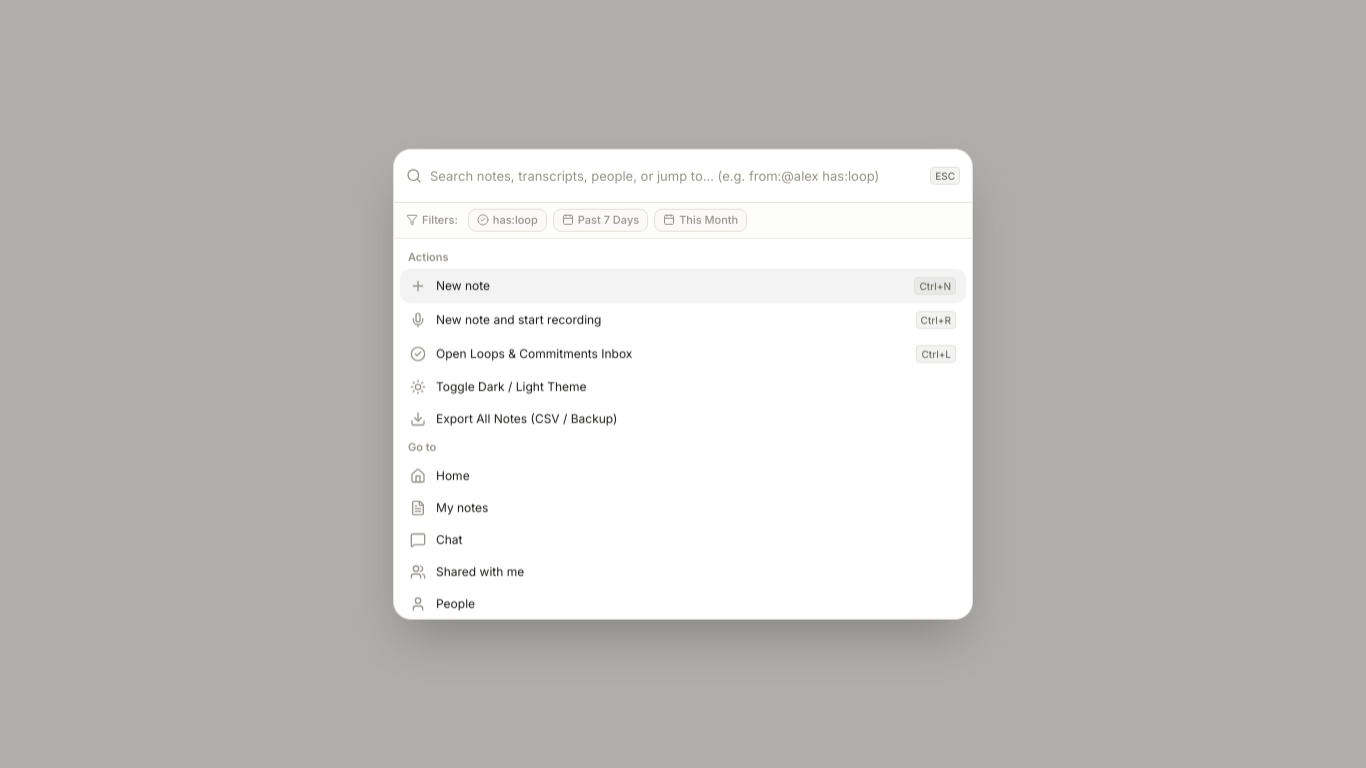
Test: CommandPalette › renders command palette and allows searching with highlighted snippet and attendees
The image size is (1366, 768).
Type query
Replace the text in the dropdown with placeholder "Search notes, transcripts, people" with "true-ups": (676, 176) [430,154,922,198]
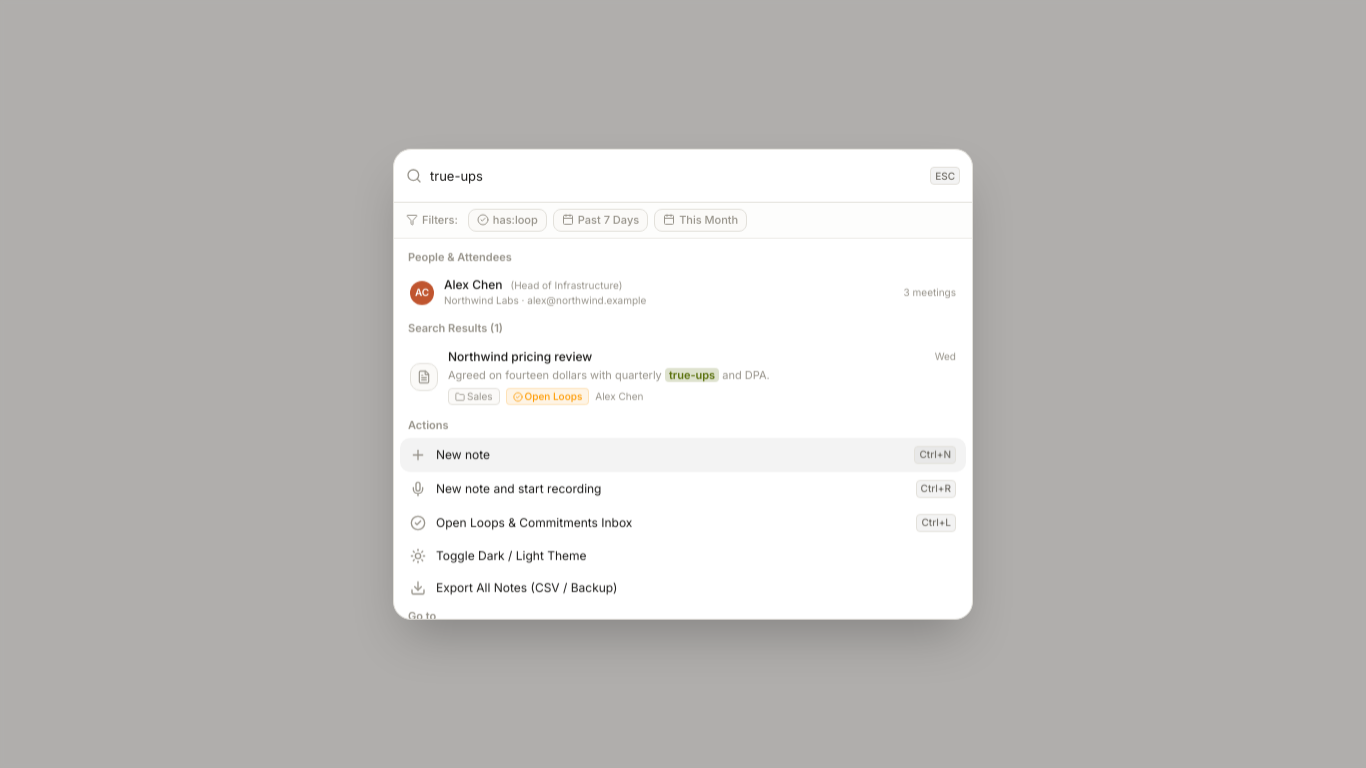
Check: the text "Northwind pricing review" is shown, box [448,348,592,364]
Check: the text "Sales" is shown, box [448,388,500,405]
Check: the text "Open Loops" is shown, box [506,388,589,405]
